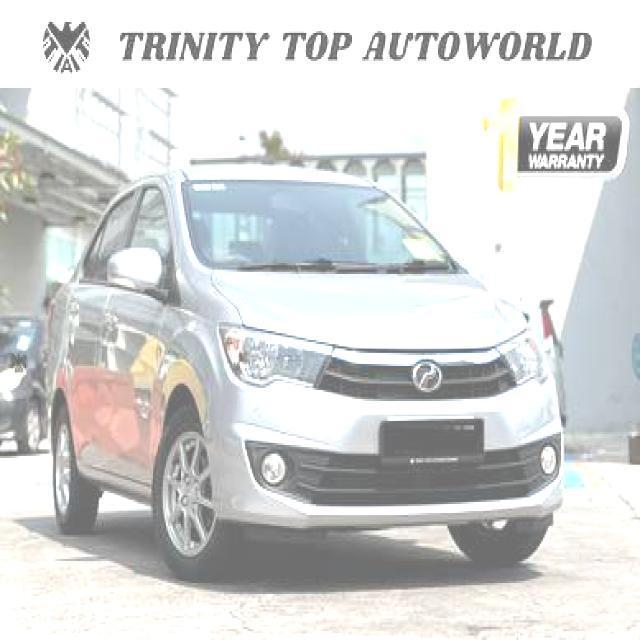PeroduaBezza: (33, 160, 566, 580)
